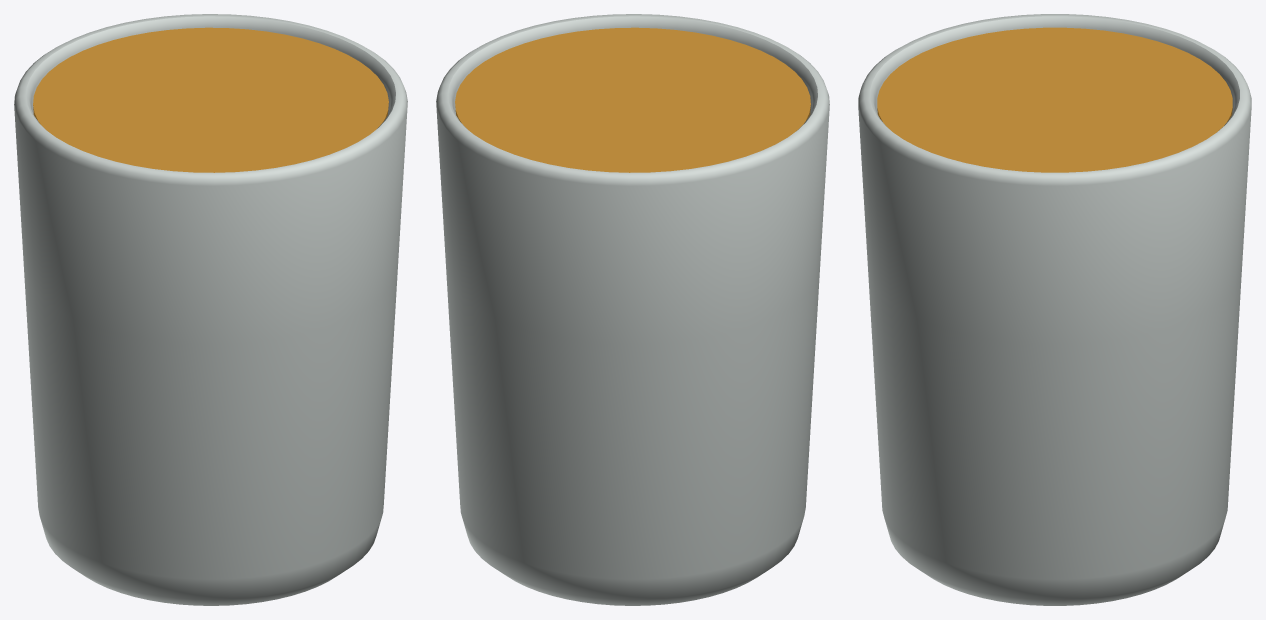
The model's file is container_tumbler.glb.
3 views of the same model, side by side, from view 1: azimuth 30°, elevation 25°; view 2: azimuth 150°, elevation 25°; view 3: azimuth 270°, elevation 25° (orthographic).
Parts seen in each view (by area): view 1: Glass, Liquid; view 2: Glass, Liquid; view 3: Glass, Liquid.
Boxes of the visible parts, x1,y1,x2,y2 form: Glass: (14, 14, 407, 605); Liquid: (33, 27, 388, 172); Glass: (436, 14, 829, 605); Liquid: (455, 27, 810, 172); Glass: (858, 14, 1251, 605); Liquid: (877, 27, 1232, 172).
Size of the model in its own units: 0.0769 by 0.0968 by 0.0769.
